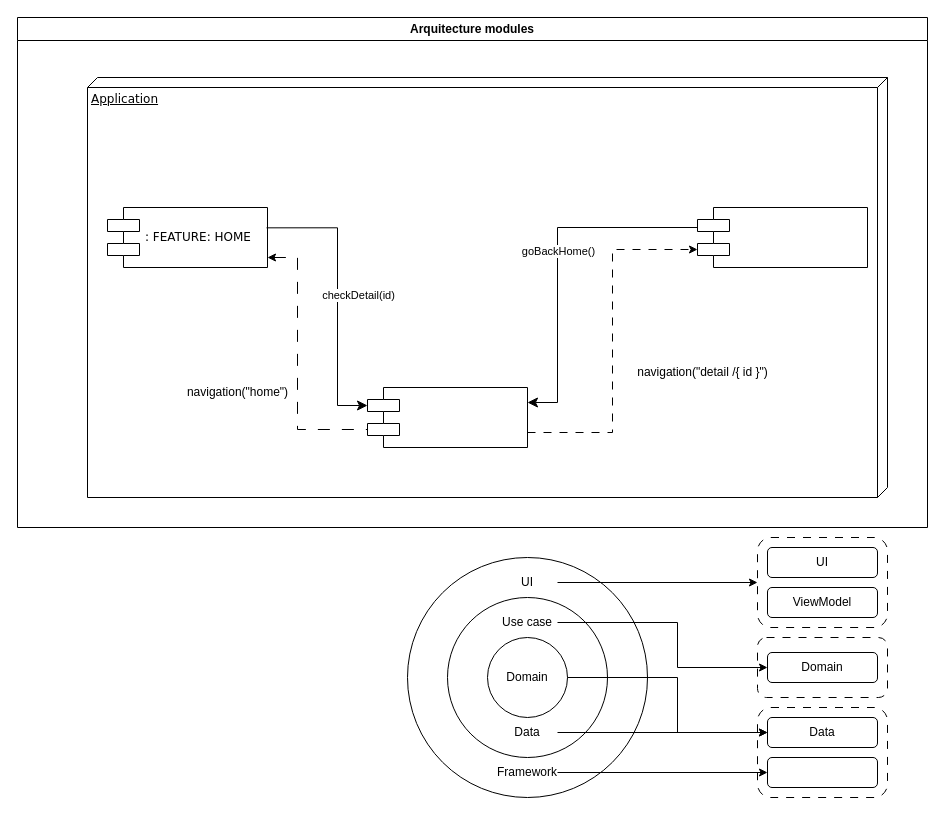
This 945x815 diagram has some shape labels left out. Each missing label, with the centre of its shape:
": APP : ANDROID" belongs at (x=447, y=417).
": FEATURE: DETAIL" belongs at (x=782, y=237).
"Repository" belongs at (x=822, y=772).
